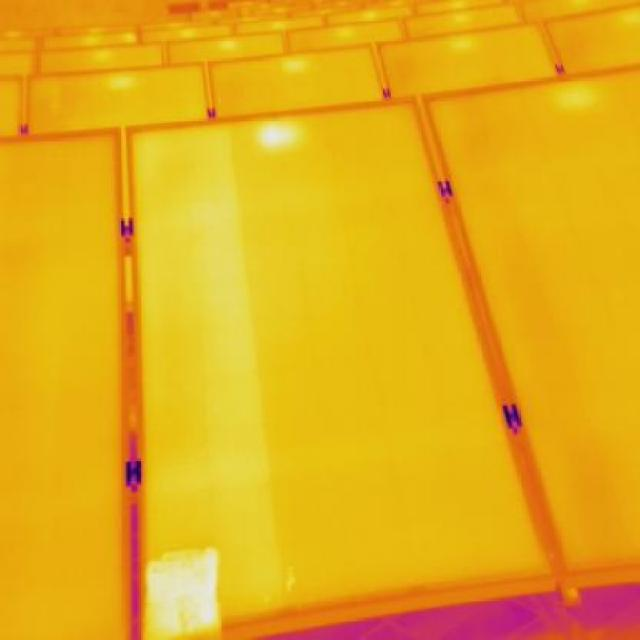hotspot: (138, 544, 227, 639), (256, 118, 310, 156)
